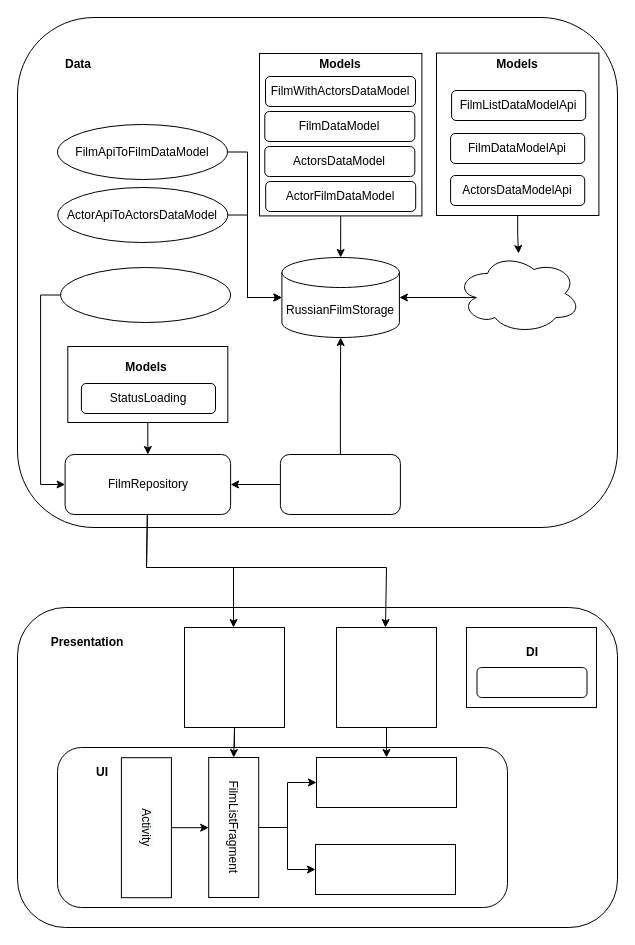
This 635x945 diagram has some shape labels left out. The box of each missing label's shape, as (x1, y1, x2, y2) in pixels:
API: (456, 252, 581, 334)
ErrorFragment: (316, 756, 456, 808)
ErrorViewModel: (336, 626, 436, 728)
FilmDialogFragment: (314, 844, 456, 894)
FilmStorage - interface: (279, 454, 400, 514)
FilmViewModel: (184, 626, 284, 728)
HiltDataModule: (476, 666, 587, 698)
InternetAvailable: (60, 266, 231, 322)
